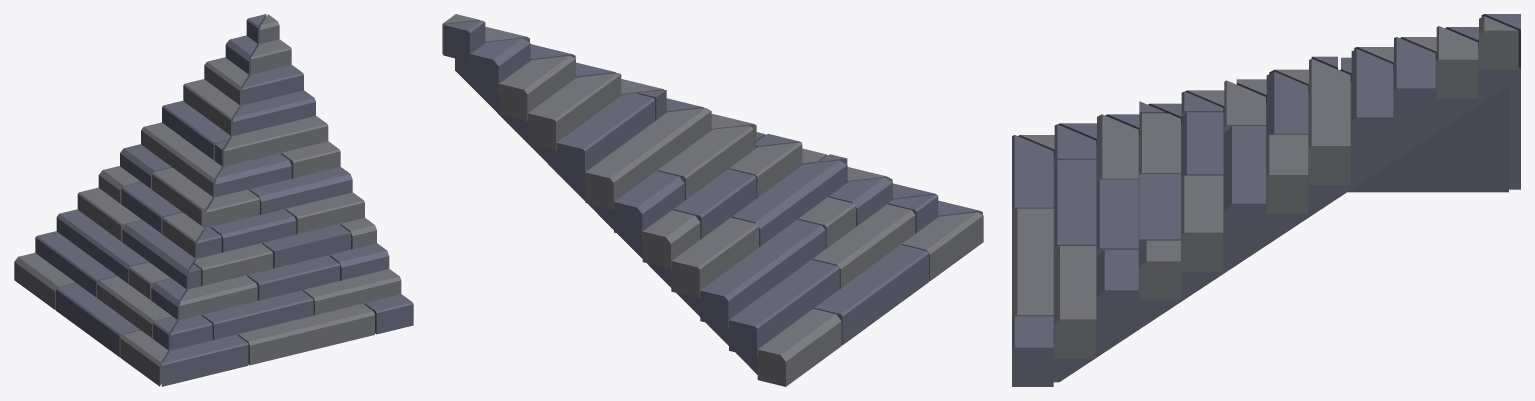
Rendered from Stairs_Corner_Out.fbx.
3 views of the same model, side by side, from view 1: azimuth 30°, elevation 25°; view 2: azimuth 150°, elevation 25°; view 3: azimuth 270°, elevation 25° (orthographic). The views are drawn at different scales.
Parts seen in each view (by area): view 1: 1-Stairs_Corner_Out; view 2: 1-Stairs_Corner_Out; view 3: 1-Stairs_Corner_Out.
Part boxes in pixels (x1,y1,x2,y2): 1-Stairs_Corner_Out: (14,14,413,386); 1-Stairs_Corner_Out: (442,14,983,386); 1-Stairs_Corner_Out: (1012,14,1520,386).
Bounding box in the file's own units: 4 × 4 × 3.1.
